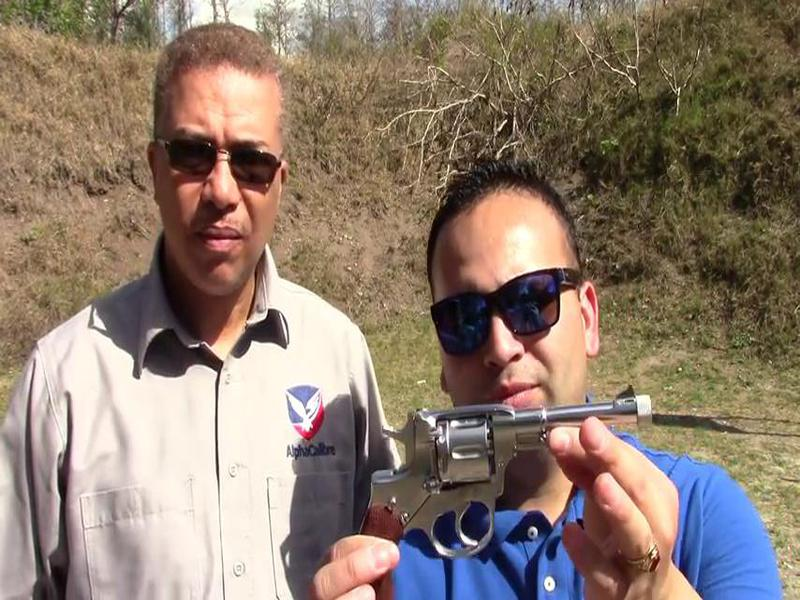Revolver: (341, 374, 664, 560)
